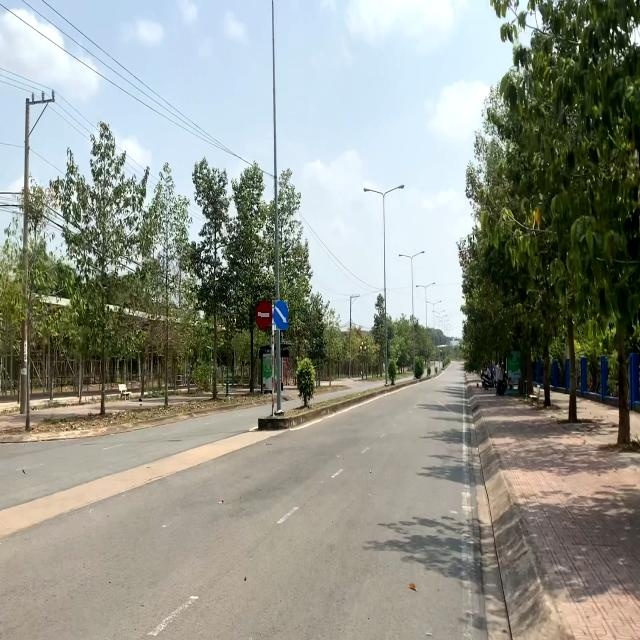bien_nguy_hiem: (272, 300, 288, 330), (256, 302, 272, 332)
